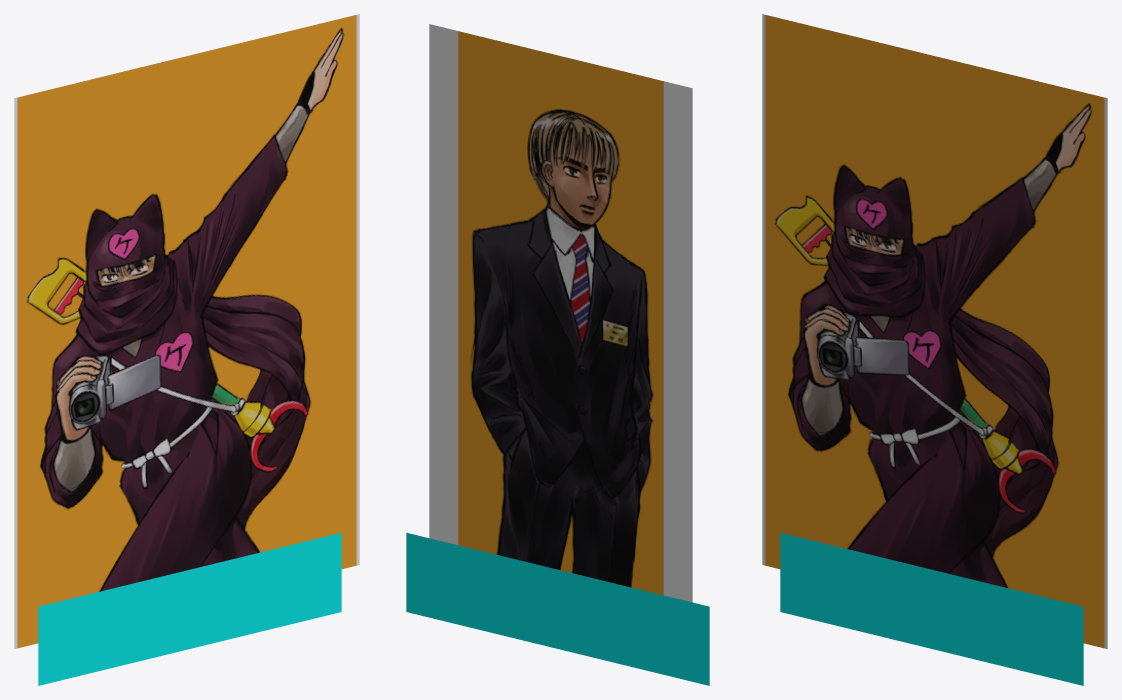
The model's file is CHAR_SEL_KENTA.glb.
3 renders of one model, left to right at view 1: azimuth 30°, elevation 25°; view 2: azimuth 150°, elevation 25°; view 3: azimuth 330°, elevation 25°, orthographic.
Visible parts, largest first — view 1: Kenta2P, Name_Kenta1; view 2: Kenta1P, Name_Kenta; view 3: Kenta2P, Name_Kenta1.
Boxes of the visible parts, x1=… form: Kenta2P: x1=14, y1=14, x2=359, y2=648; Name_Kenta1: x1=38, y1=532, x2=341, y2=685; Kenta1P: x1=429, y1=24, x2=692, y2=602; Name_Kenta: x1=406, y1=532, x2=709, y2=685; Kenta2P: x1=762, y1=14, x2=1107, y2=648; Name_Kenta1: x1=780, y1=532, x2=1083, y2=685.
Size of the model in its own units: 6.56 by 10.72 by 0.2.
4 materials, 4 textured.
